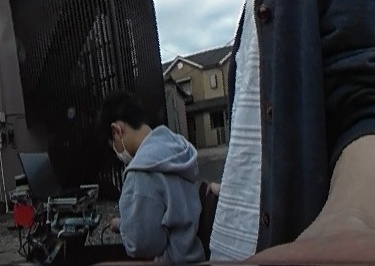person: (79, 92, 205, 266)
